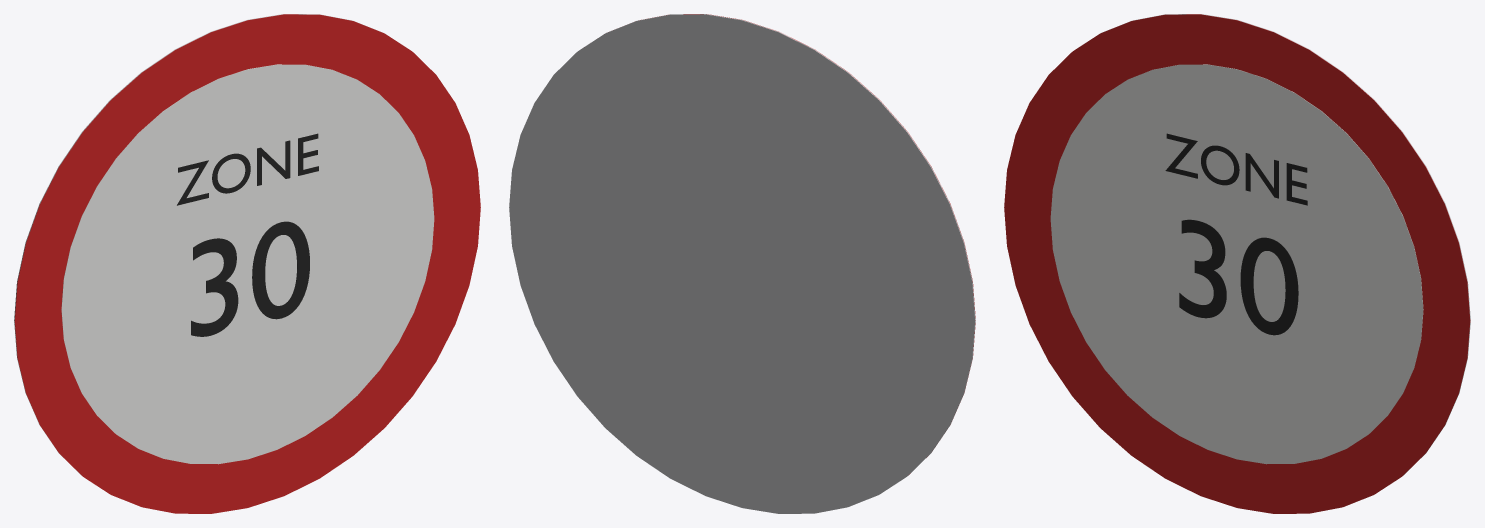
The picture shows the model from 3 angles, left to right: view 1: azimuth 30°, elevation 25°; view 2: azimuth 150°, elevation 25°; view 3: azimuth 330°, elevation 25°; orthographic projection.
Parts seen in each view (by area): view 1: B30_int01, B30_ext00, B30_txt03, B30_txt02, B30_dos; view 2: B30_dos; view 3: B30_int01, B30_ext00, B30_txt03, B30_txt02, B30_dos.
Part boxes in pixels (x1,y1,x2,y2): B30_int01: (61,64,434,464); B30_ext00: (14,14,480,513); B30_txt03: (191,221,309,336); B30_txt02: (177,133,318,205); B30_dos: (14,14,383,475); B30_dos: (509,14,975,513); B30_int01: (1050,64,1423,464); B30_ext00: (1004,14,1470,513); B30_txt03: (1179,219,1298,335); B30_txt02: (1165,133,1307,205); B30_dos: (1101,14,1470,475).
Size of the model in its own units: 0.65 by 0.65 by 0.0029.
